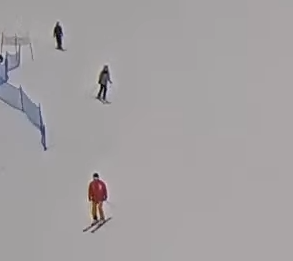skier: (75, 166, 126, 238), (85, 56, 121, 111), (48, 13, 70, 56)
